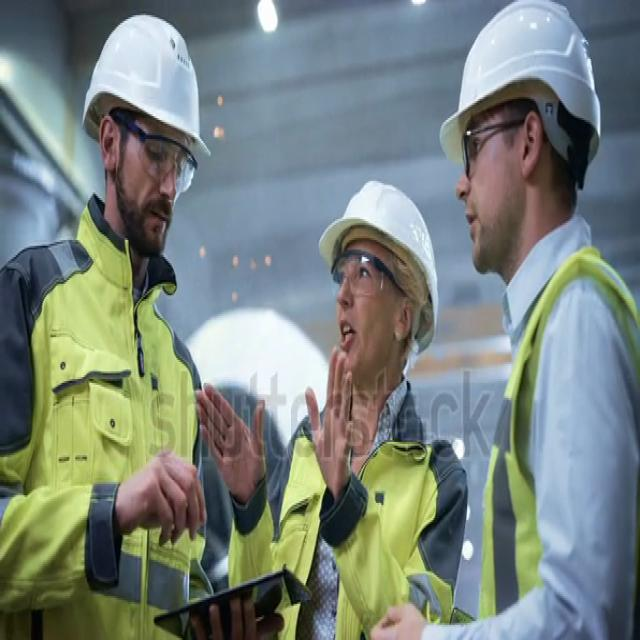goggles: (327, 248, 409, 312), (126, 117, 196, 186), (457, 128, 522, 173)
